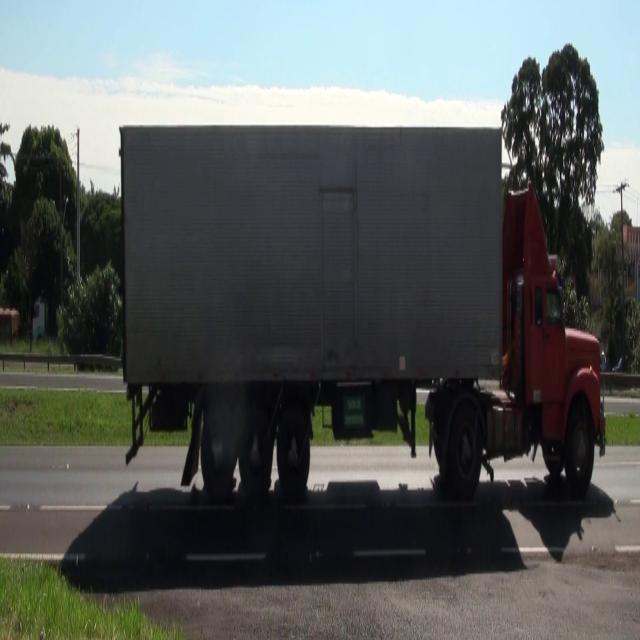-axle: (451, 400, 486, 499), (276, 408, 312, 498), (201, 404, 233, 500), (238, 404, 270, 500), (564, 399, 597, 490)
